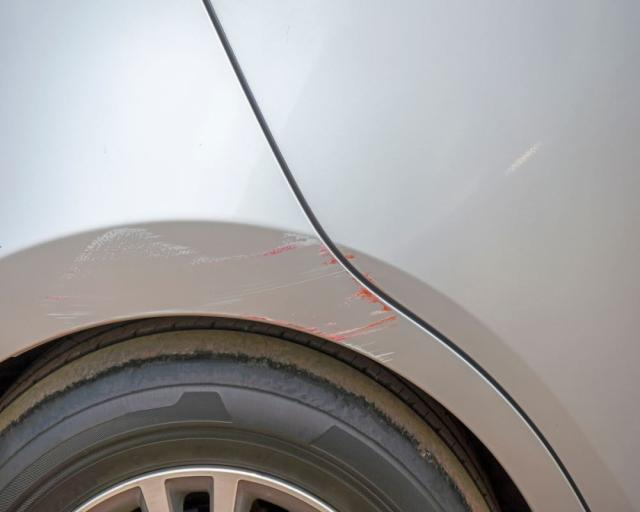scratch: (47, 223, 401, 365)
